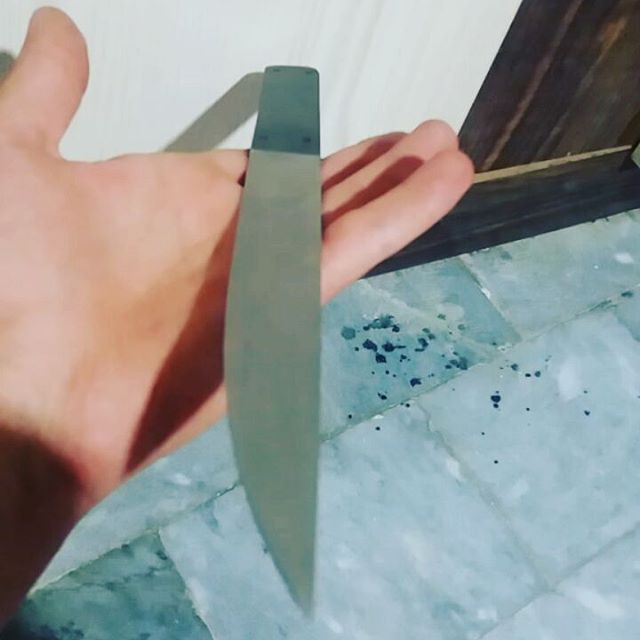knife: (223, 66, 321, 617)
